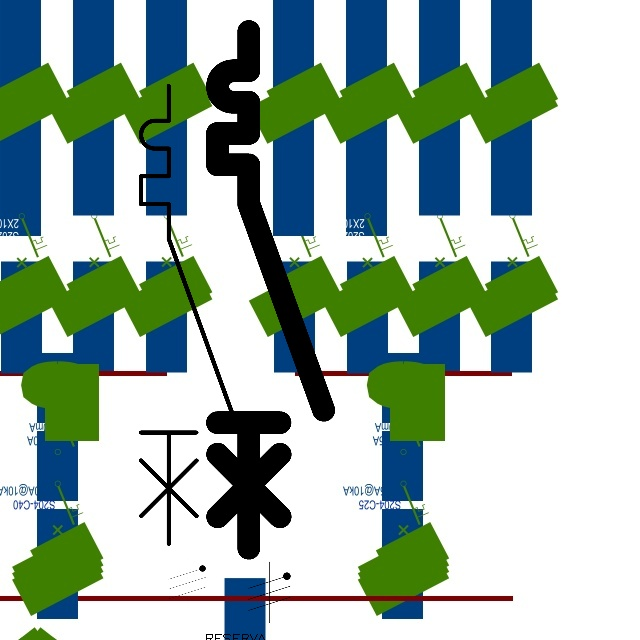interruptor_termomagnetico: (204, 18, 337, 561), (129, 74, 247, 555)
